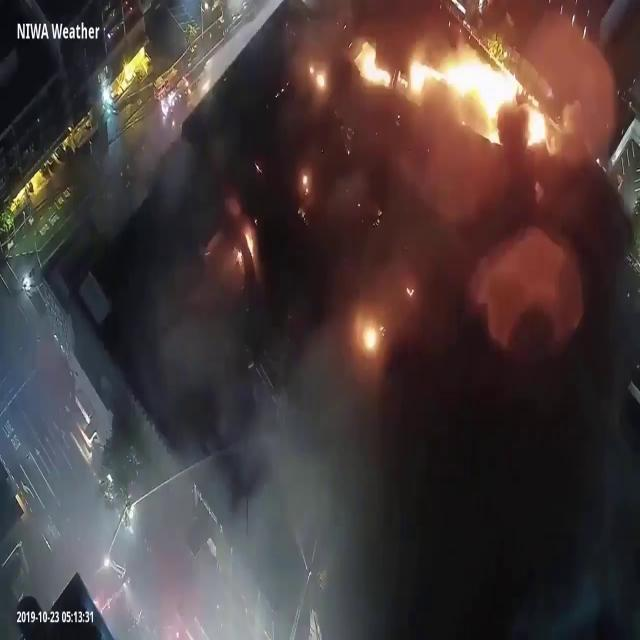Fire: (398, 47, 518, 127), (361, 47, 392, 89), (526, 102, 548, 148), (360, 324, 378, 349), (308, 59, 324, 86), (243, 228, 256, 260), (301, 168, 311, 196), (236, 247, 244, 263), (406, 283, 414, 297)
